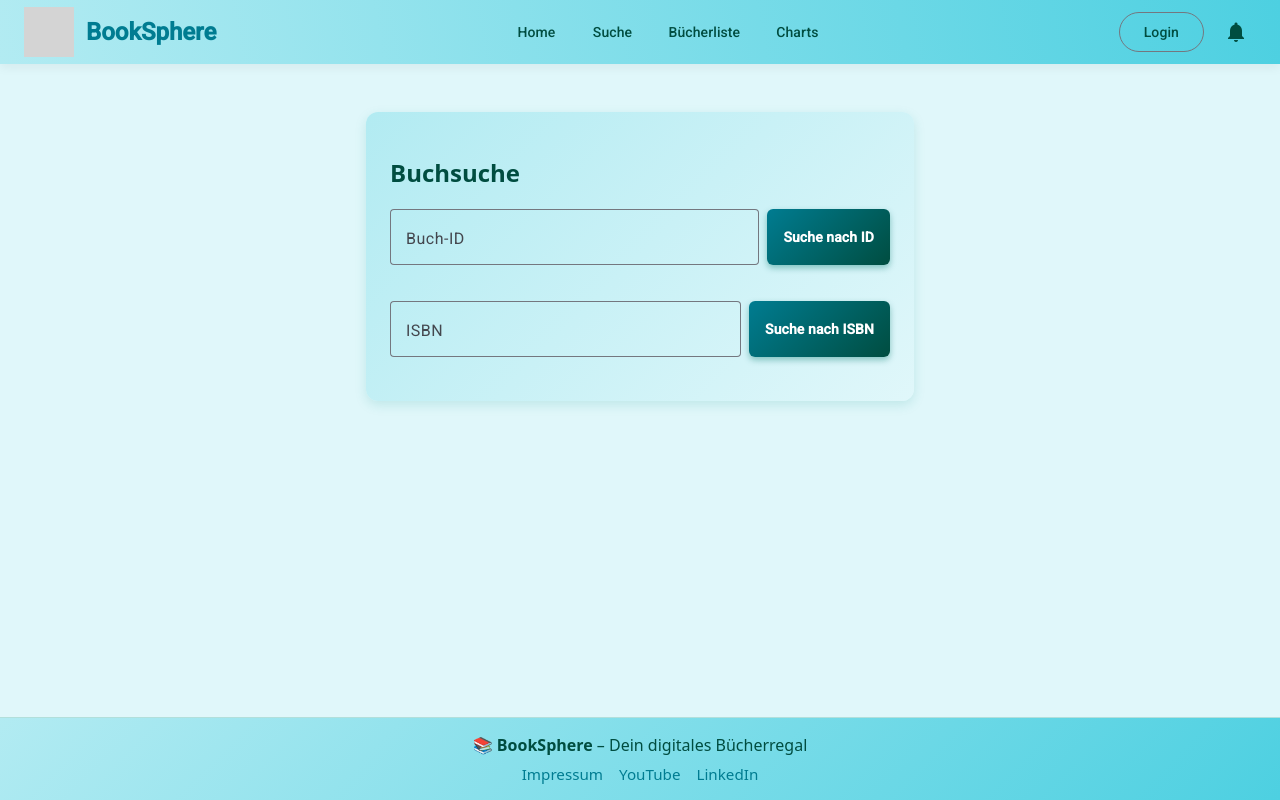
it: HomeComponent › should show error if bookID not found
Type "10" into the number field with placeholder "Buch-ID eingeben".
click(575, 237); type("10")  # box [406, 225, 743, 249]
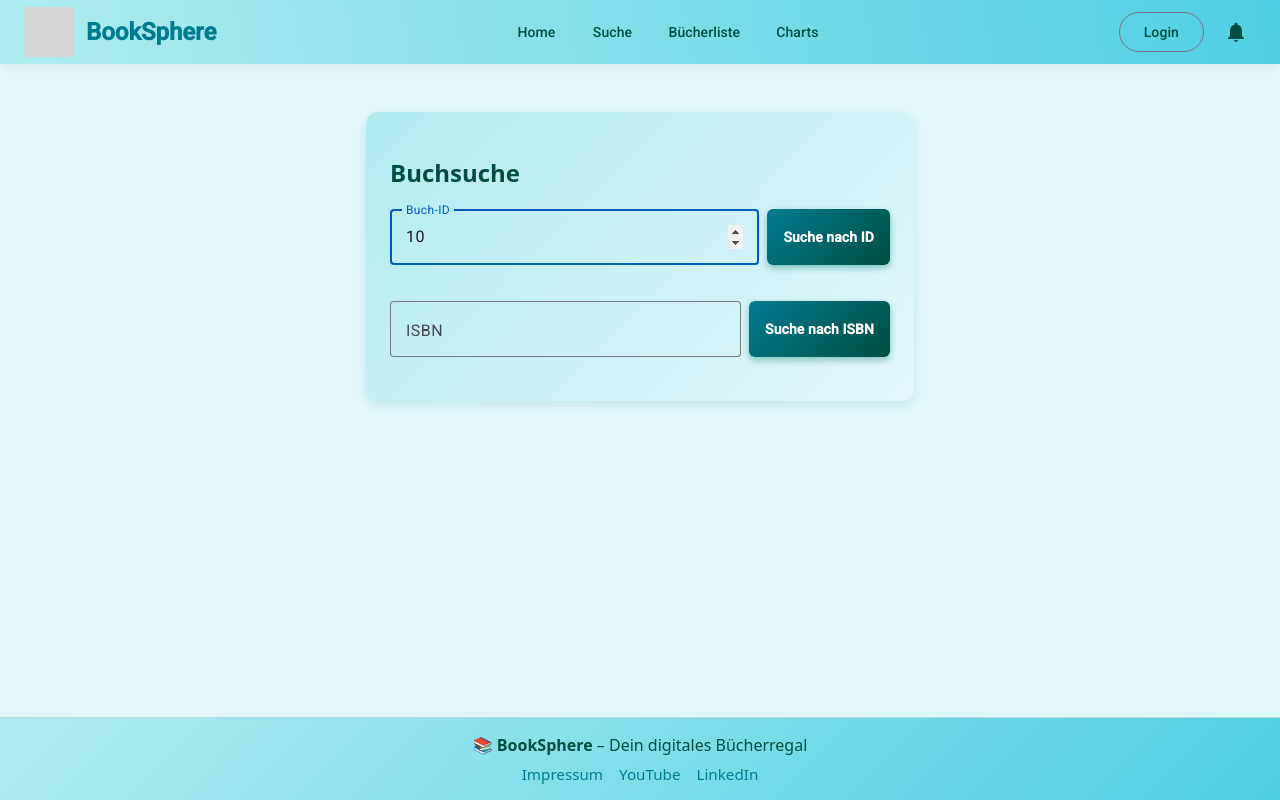
Click the button "Suche nach ID".
click(829, 237)  # box [767, 209, 890, 265]
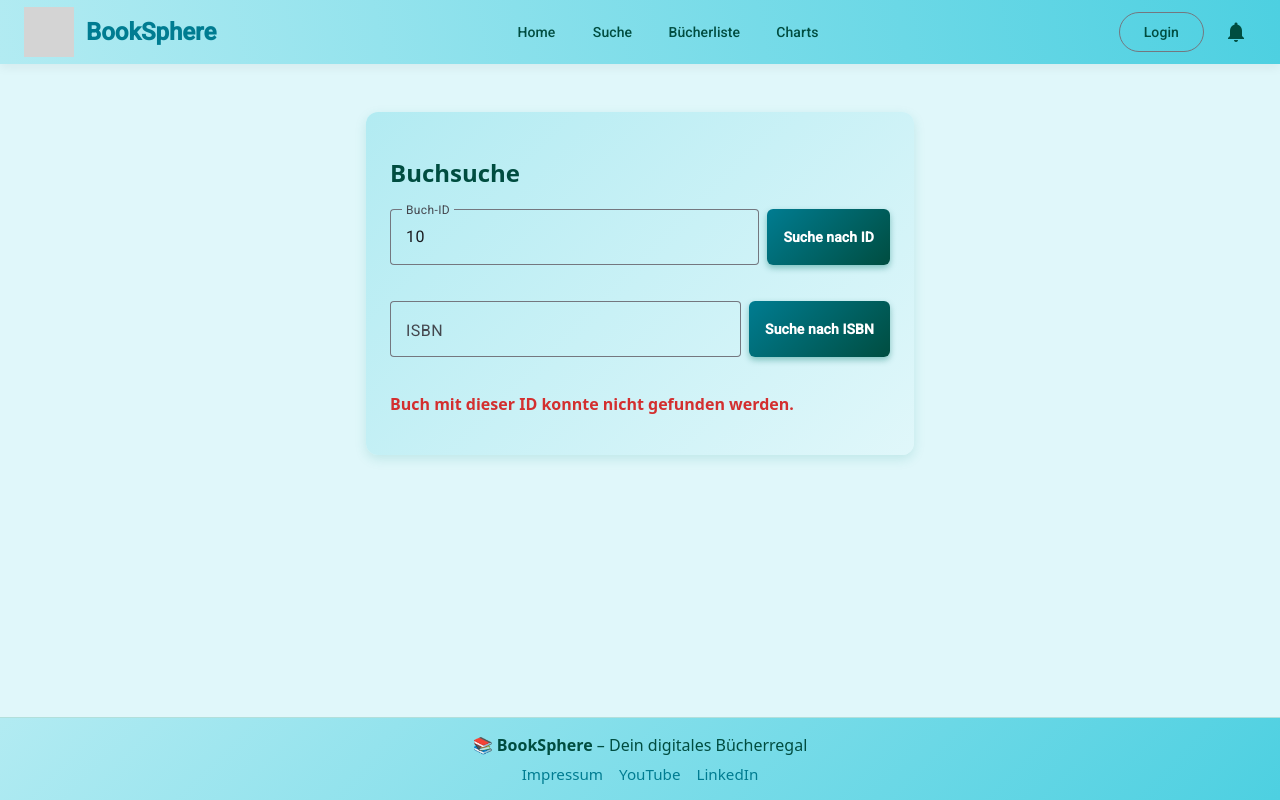
Now the text with class "error" shows "Buch mit dieser ID konnte nicht gefunden werden", box [390, 393, 794, 415]
